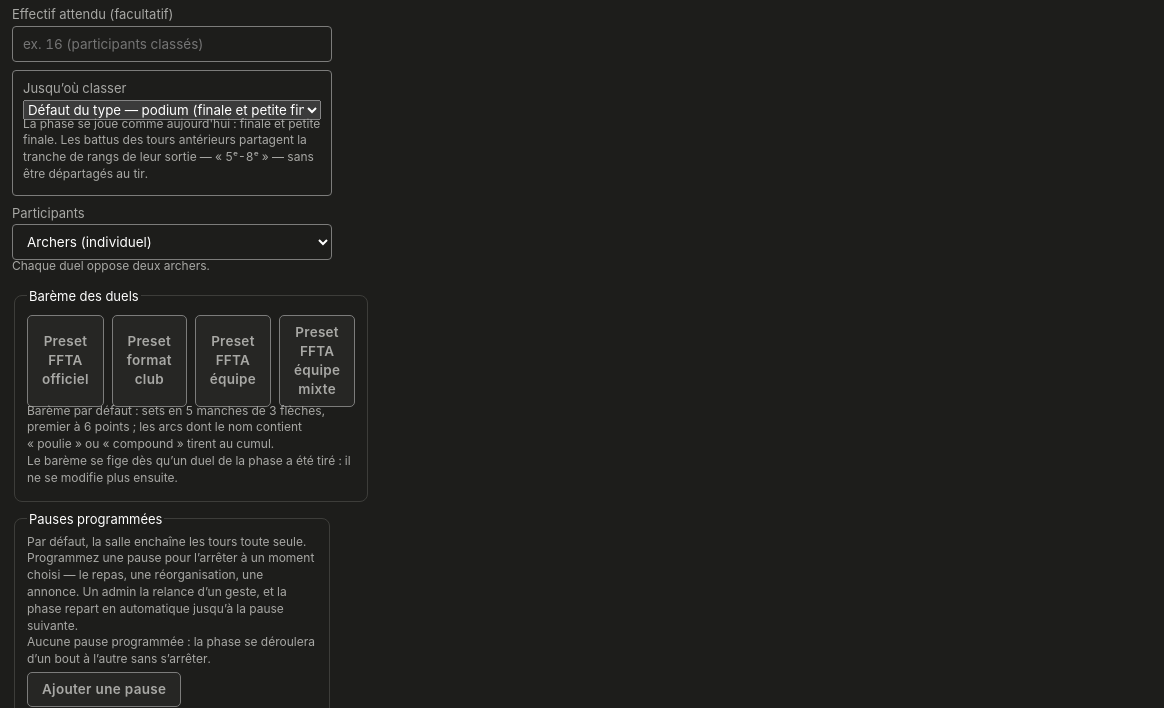
Test: le barème des duels d’une phase › signale un arc à poulies sans barème propre, puis une surcharge sans catégorie
(page scrolled)
Click the button "Preset FFTA officiel" at (65, 361), box [27,315,104,407]
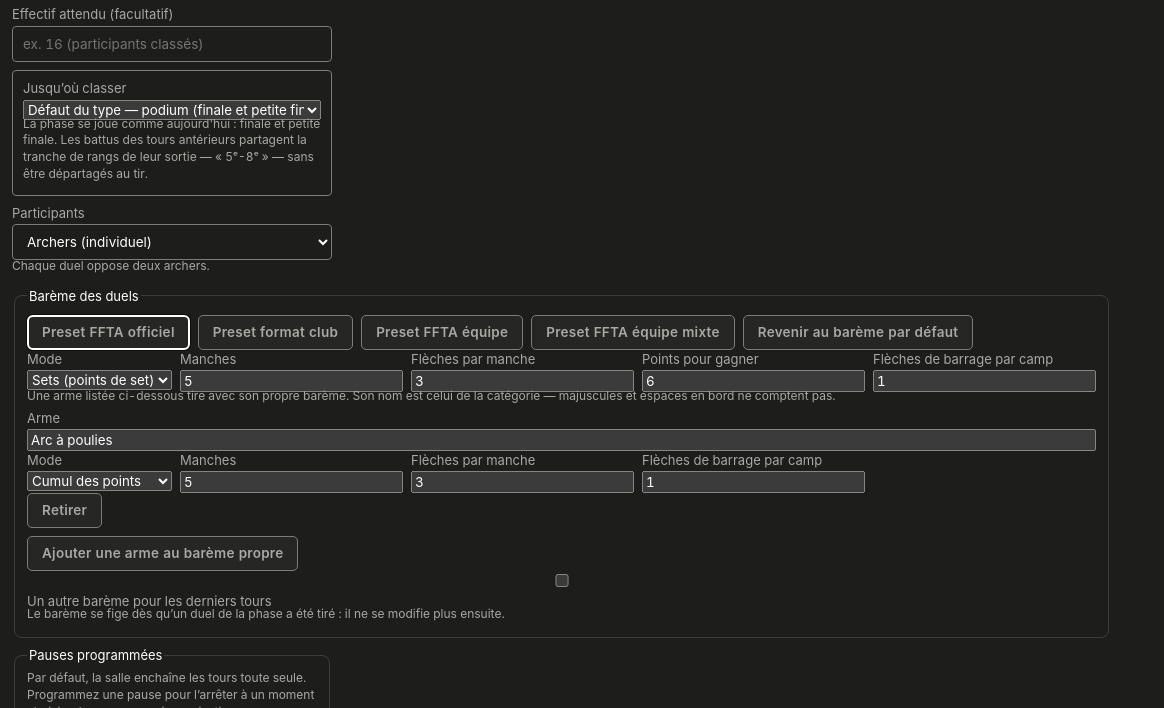
Expected: the text "Sans barème propre" is not shown
Click the button with aria-label "Retirer la surcharge de l’arme Arc à poulies" at (65, 511), box [27,493,102,528]
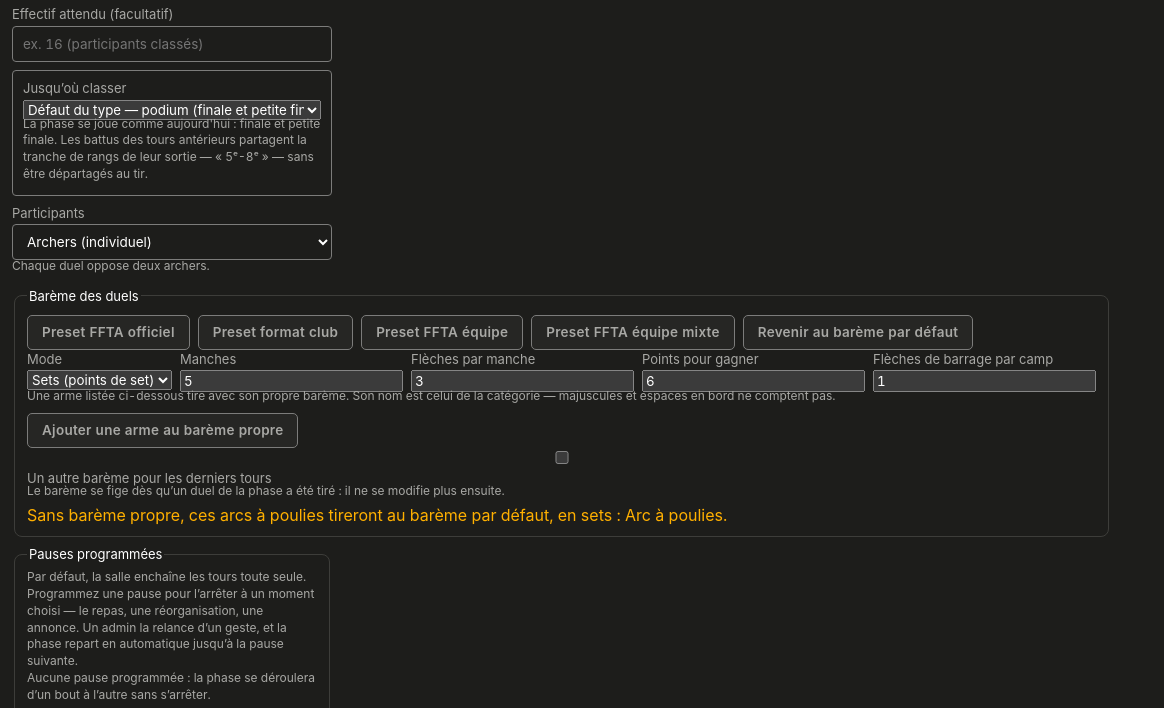
Expected: the text "Sans barème propre" shows "Arc à poulies", [625,505,723,525]
Click the button "Ajouter une arme au barème propre" at (163, 430), box [27,413,298,448]
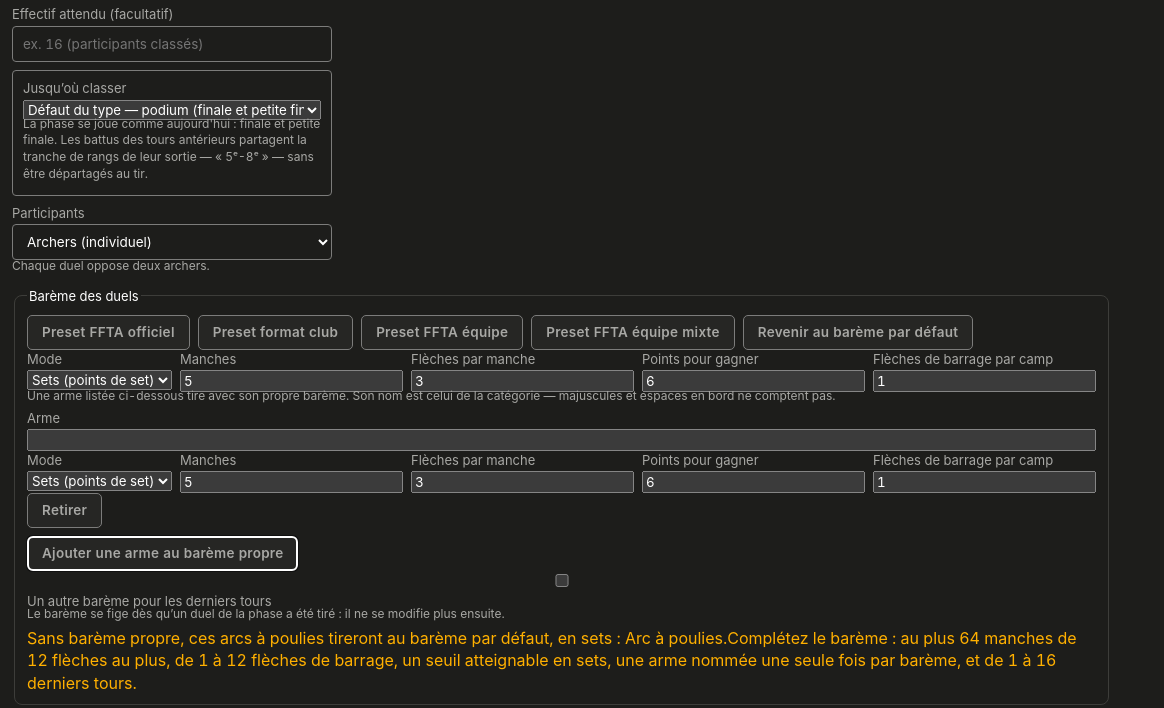
Type "Arbalète" into the field labelled "Arme" at (562, 440), box [27,429,1096,451]
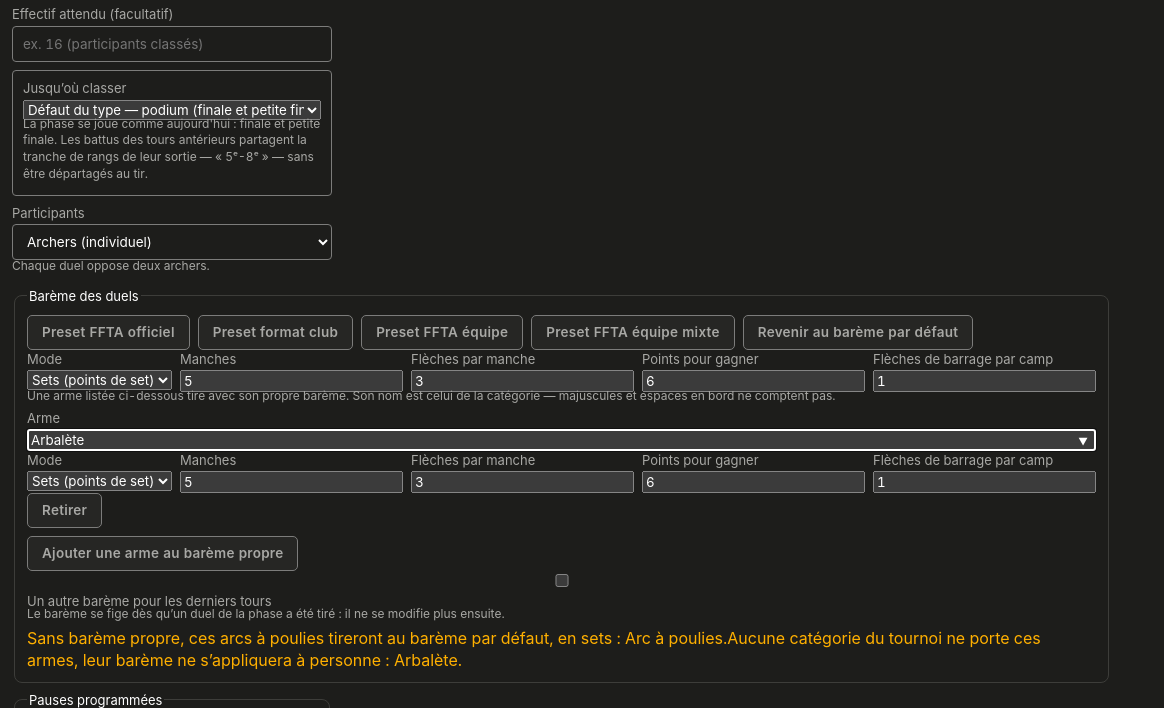
Expected: the text "Aucune catégorie du tournoi" shows "Arbalète", [394,650,458,670]
